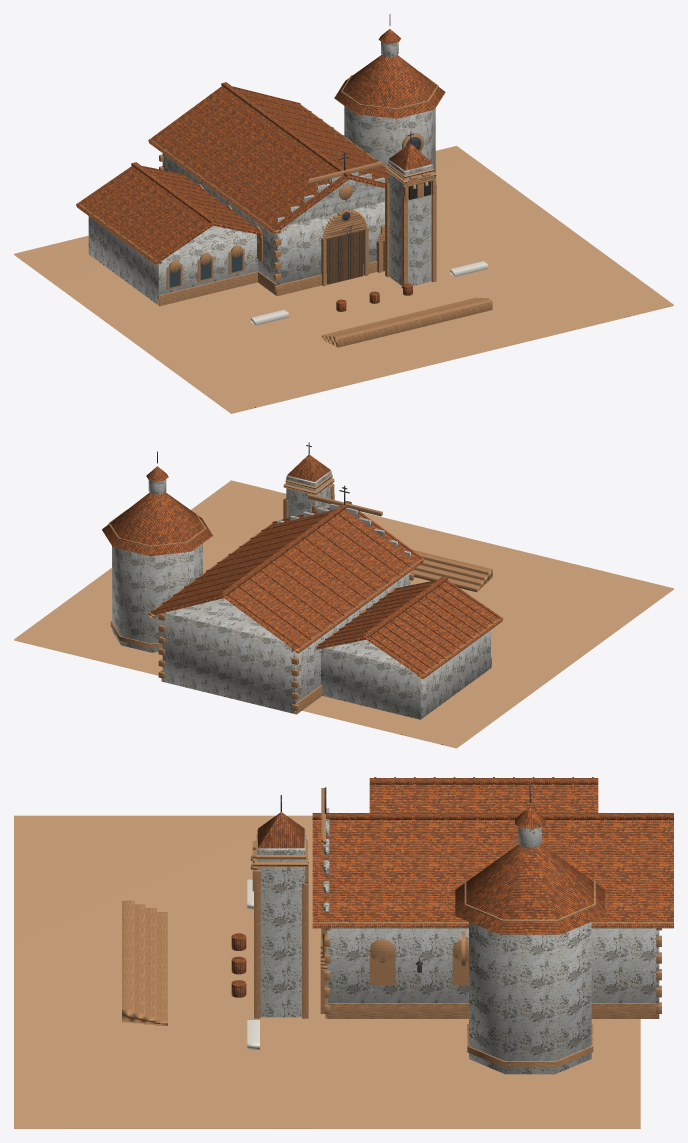
The model's file is ermita_montemayor.glb.
3 renders of one model, top to bottom at view 1: azimuth 30°, elevation 25°; view 2: azimuth 150°, elevation 25°; view 3: azimuth 270°, elevation 25°, orthographic. The views are drawn at different scales.
Parts seen in each view (by area): view 1: EM_Plaza_Arena, Grupo_2_60piezas, Grupo_1_10piezas, Grupo_0_99piezas, Grupo_4_18piezas, Grupo_3_77piezas, Grupo_10_2piezas; view 2: EM_Plaza_Arena, Grupo_2_60piezas, Grupo_1_10piezas, Grupo_0_99piezas; view 3: EM_Plaza_Arena, Grupo_2_60piezas, Grupo_1_10piezas, Grupo_0_99piezas, Grupo_10_2piezas.
Boxes of the visible parts, left/top/right/bottom form: EM_Plaza_Arena: left=14, top=146, right=673, bottom=413; Grupo_2_60piezas: left=76, top=29, right=445, bottom=311; Grupo_1_10piezas: left=88, top=42, right=435, bottom=304; Grupo_0_99piezas: left=77, top=71, right=492, bottom=347; Grupo_4_18piezas: left=326, top=230, right=384, bottom=284; Grupo_3_77piezas: left=171, top=14, right=421, bottom=286; Grupo_10_2piezas: left=251, top=261, right=487, bottom=325; EM_Plaza_Arena: left=14, top=480, right=673, bottom=748; Grupo_2_60piezas: left=102, top=454, right=503, bottom=678; Grupo_1_10piezas: left=112, top=471, right=490, bottom=719; Grupo_0_99piezas: left=108, top=474, right=502, bottom=714; EM_Plaza_Arena: left=14, top=815, right=640, bottom=1128; Grupo_2_60piezas: left=231, top=777, right=673, bottom=997; Grupo_1_10piezas: left=257, top=808, right=659, bottom=1074; Grupo_0_99piezas: left=122, top=788, right=673, bottom=1067; Grupo_10_2piezas: left=247, top=879, right=259, bottom=1049.
Bounding box in the file's own units: 3 × 1.21 × 2.68.
Materials: 13 (5 with a texture image).
